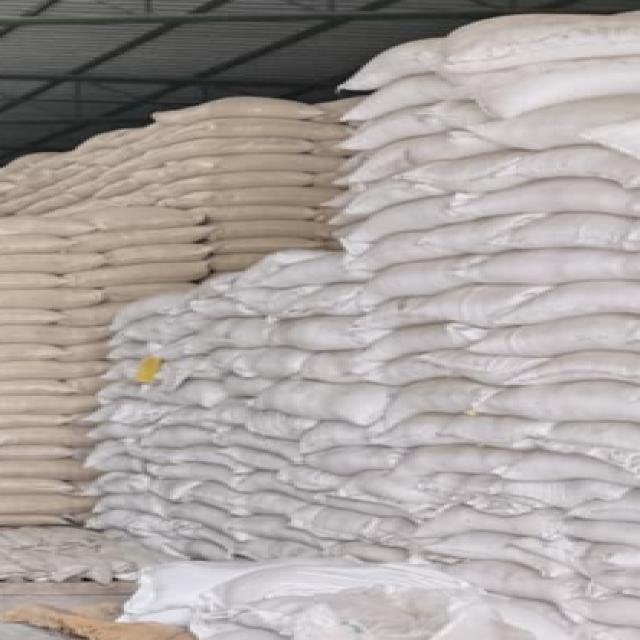Sack-2: (448, 246, 640, 296), (440, 15, 640, 62), (503, 276, 640, 337), (464, 315, 640, 358), (445, 63, 637, 102), (333, 35, 452, 97), (423, 558, 581, 604), (472, 381, 640, 422), (351, 255, 466, 308), (445, 187, 640, 218), (340, 74, 450, 128), (469, 110, 623, 147), (513, 348, 640, 392), (346, 100, 447, 155), (343, 134, 434, 193), (386, 442, 511, 483), (512, 144, 640, 184), (490, 451, 633, 486), (362, 197, 455, 250), (378, 380, 501, 418), (147, 118, 349, 140), (140, 97, 323, 121), (343, 170, 426, 222), (434, 416, 546, 454), (522, 422, 640, 456), (263, 380, 365, 419), (434, 535, 546, 569), (293, 416, 392, 454), (75, 262, 215, 284), (266, 257, 376, 285), (210, 220, 327, 246), (380, 414, 458, 453), (176, 187, 330, 206), (274, 317, 368, 348), (239, 513, 322, 548), (168, 170, 311, 187), (165, 502, 243, 532), (191, 152, 333, 168), (199, 204, 314, 223), (412, 163, 499, 188), (83, 210, 207, 227), (0, 359, 110, 378), (144, 140, 314, 152), (0, 393, 101, 413), (0, 288, 109, 306), (138, 424, 219, 447), (0, 249, 66, 276), (0, 327, 111, 343), (70, 229, 204, 242), (0, 430, 99, 447), (1, 497, 90, 515), (109, 245, 205, 261), (0, 213, 74, 233), (0, 234, 72, 254), (3, 342, 71, 362), (4, 378, 74, 396), (0, 467, 94, 480), (0, 447, 70, 462), (2, 480, 67, 496), (0, 309, 61, 326), (0, 272, 61, 287), (0, 511, 70, 522), (0, 413, 66, 424)
